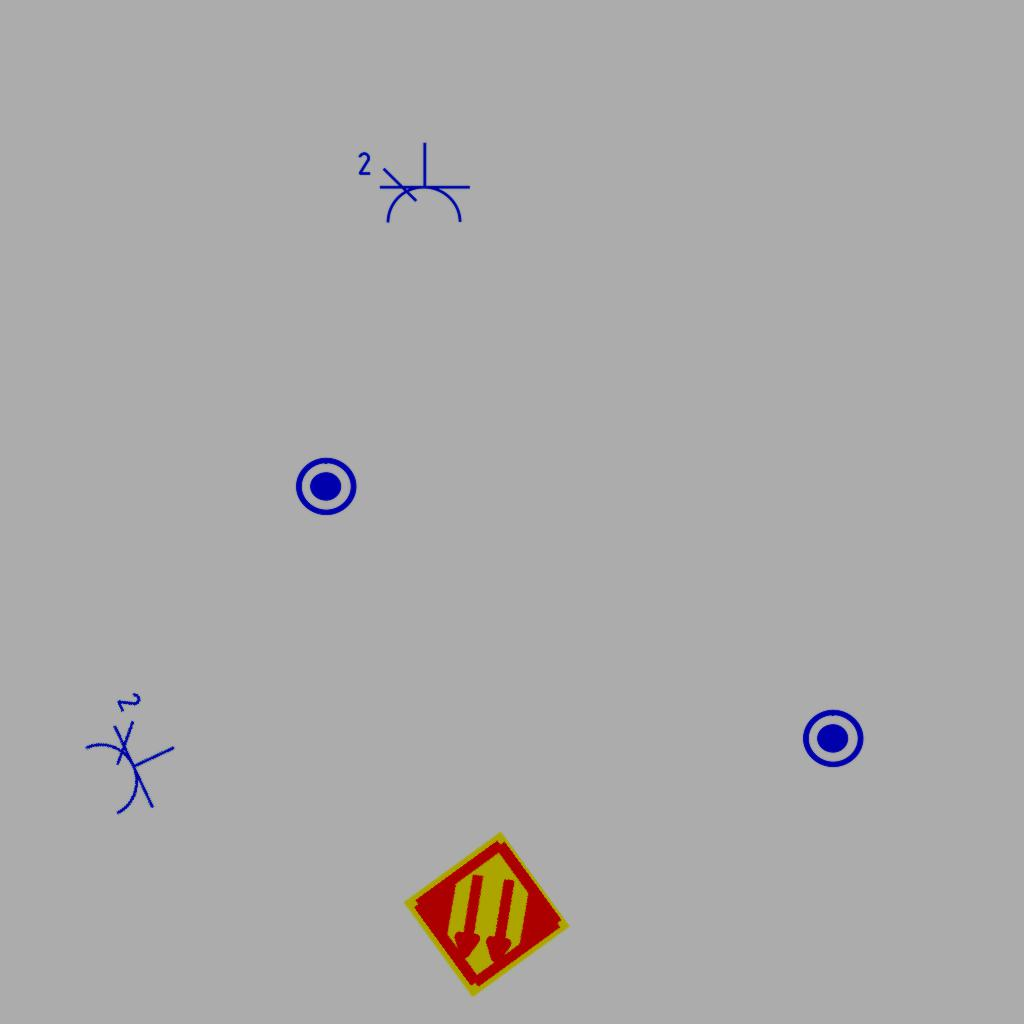ASR_Ansaugrauchmelder: (399, 827, 574, 1002)
Schukosteckdose_mehrfach: (64, 680, 196, 827), (351, 141, 472, 229)
Taster: (800, 703, 866, 769), (293, 451, 359, 517)
